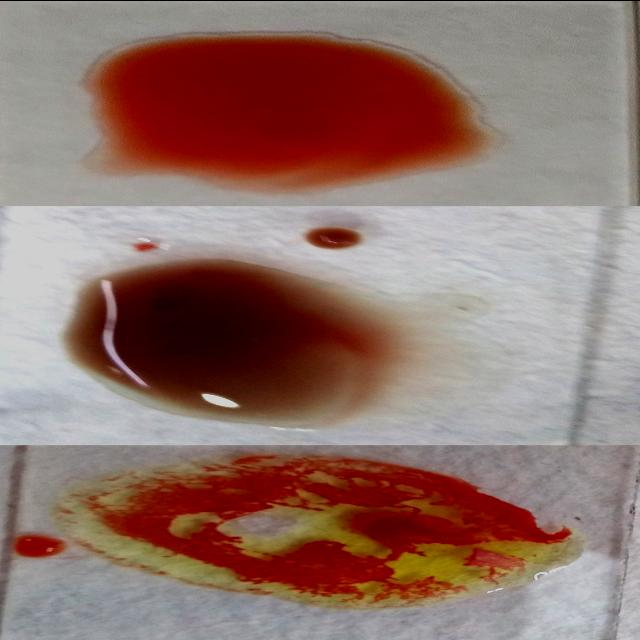B: (45, 456, 585, 598)
